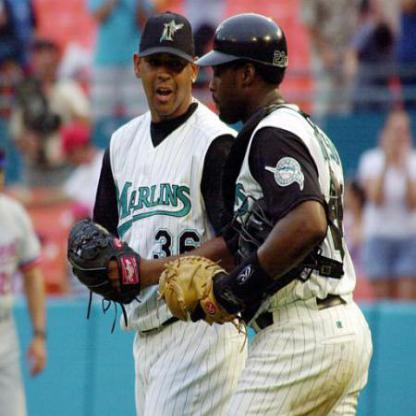face: (143, 21, 193, 118), (209, 30, 250, 126), (35, 43, 61, 87), (389, 119, 412, 154)
